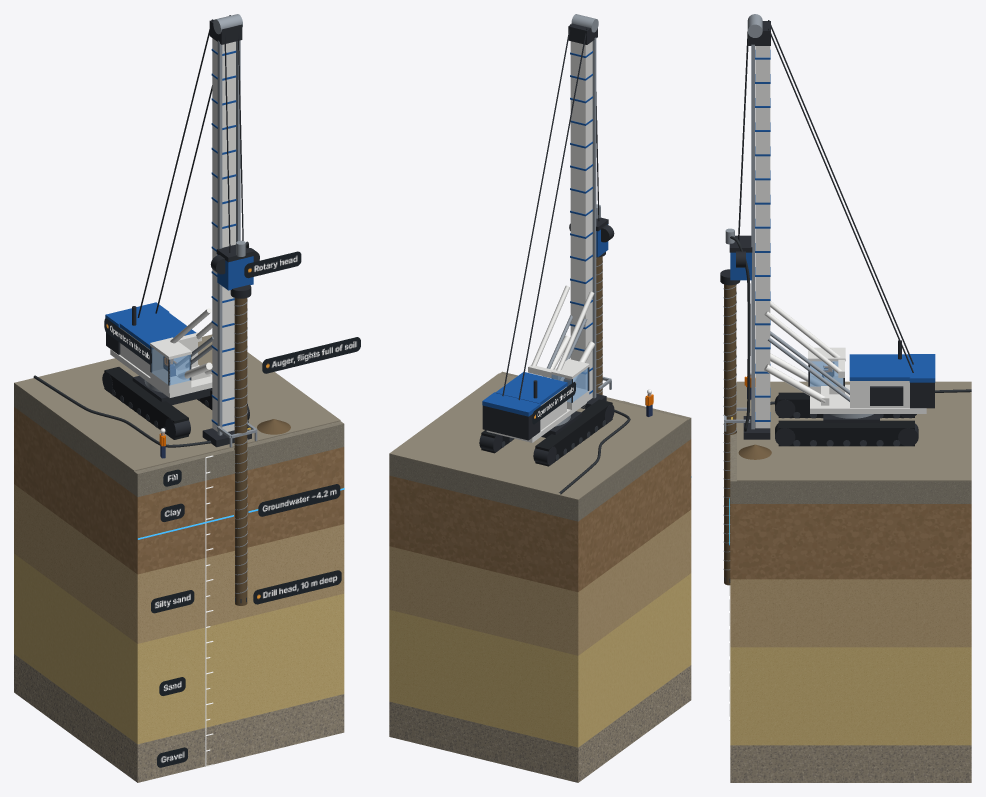
Rendered from cfa-makett-feliratok-en.glb.
3 renders of one model, left to right at view 1: azimuth 30°, elevation 25°; view 2: azimuth 150°, elevation 25°; view 3: azimuth 270°, elevation 25°, orthographic. The views are drawn at different scales.
Visible parts, largest first — view 1: Homok, Agyag (furat), CFA_furogep, Iszapos homok (furat), Munkaszint, Kavics, Feltöltés (furat), Felirat (×6), Iszapos homok, Talaj_a_meneteken, Melysegi_vonalzo, object 15 (+2 smaller); view 2: Homok, Agyag (furat), CFA_furogep, Iszapos homok (furat), Munkaszint, Kavics, Feltöltés (furat), Iszapos homok, Talaj_a_meneteken, Felirat; view 3: CFA_furogep, Homok, Agyag (furat), Iszapos homok (furat), Munkaszint, Kavics, Feltöltés (furat), Iszapos homok, Talaj_a_meneteken, Betontomlo, Furocsiga, object 15.
Part boxes in pixels (<box>): Homok: <box>14,554,344,744</box>; Agyag (furat): <box>14,407,344,574</box>; CFA_furogep: <box>102,14,251,447</box>; Iszapos homok (furat): <box>14,484,344,628</box>; Munkaszint: <box>14,334,340,471</box>; Kavics: <box>14,654,344,782</box>; Feltöltés (furat): <box>14,384,344,497</box>; Felirat (×6): <box>104,251,360,613</box>; Iszapos homok: <box>14,538,344,643</box>; Talaj_a_meneteken: <box>234,298,247,605</box>; Melysegi_vonalzo: <box>205,455,213,766</box>; object 15: <box>217,254,253,290</box>; Homok: <box>389,573,691,747</box>; Agyag (furat): <box>389,439,691,591</box>; CFA_furogep: <box>479,14,614,466</box>; Iszapos homok (furat): <box>389,510,691,641</box>; Munkaszint: <box>389,373,687,500</box>; Kavics: <box>389,665,691,782</box>; Feltöltés (furat): <box>389,371,691,521</box>; Iszapos homok: <box>389,559,691,655</box>; Talaj_a_meneteken: <box>596,256,602,394</box>; Felirat: <box>532,382,575,424</box>; CFA_furogep: <box>738,14,935,446</box>; Homok: <box>730,647,971,745</box>; Agyag (furat): <box>730,504,971,579</box>; Iszapos homok (furat): <box>730,579,971,631</box>; Munkaszint: <box>737,381,971,481</box>; Kavics: <box>730,745,971,782</box>; Feltöltés (furat): <box>730,384,971,503</box>; Iszapos homok: <box>730,632,971,647</box>; Talaj_a_meneteken: <box>724,284,736,585</box>; Betontomlo: <box>730,236,971,431</box>; Furocsiga: <box>723,284,736,582</box>; object 15: <box>730,252,751,280</box>.
Bounding box in the file's own units: 0.251 × 0.7896 × 0.2518.
Materials: 40 (16 with a texture image).
